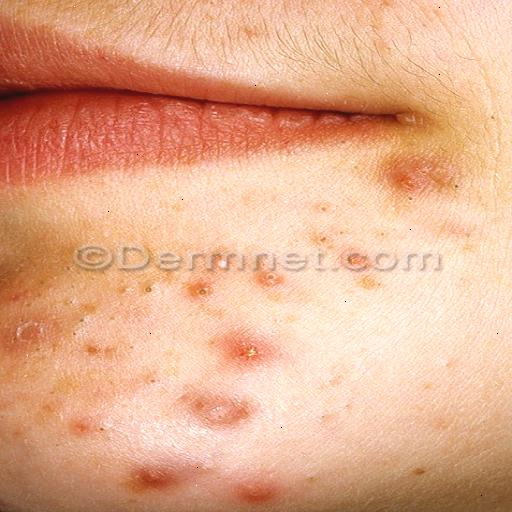Skin_Lesion: (378, 104, 464, 210), (183, 377, 259, 436), (316, 236, 382, 296), (130, 450, 183, 496), (232, 326, 276, 372), (74, 300, 102, 366), (70, 404, 110, 442), (237, 472, 279, 507), (15, 318, 51, 354), (257, 262, 286, 300), (183, 273, 209, 312), (212, 248, 236, 280), (4, 290, 24, 310)
